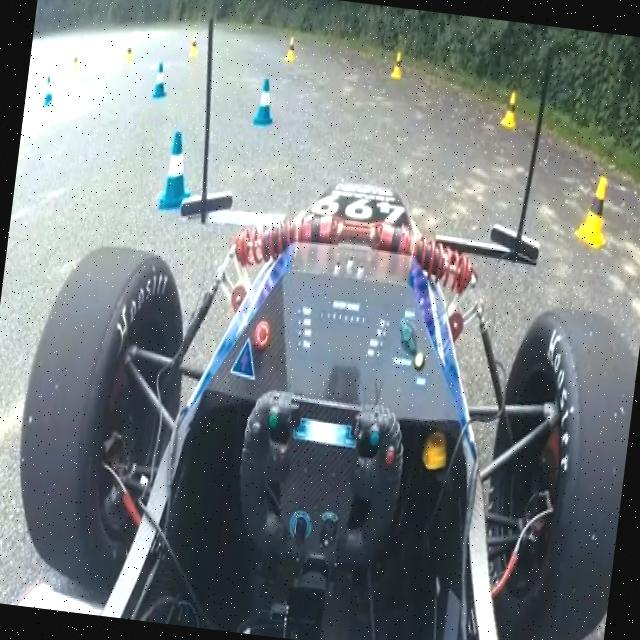blue_cone: (154, 128, 198, 215), (252, 75, 277, 126), (151, 60, 170, 100), (42, 75, 56, 106)
yellow_cone: (574, 174, 612, 248), (500, 90, 520, 128), (284, 34, 298, 62), (391, 50, 404, 78)
